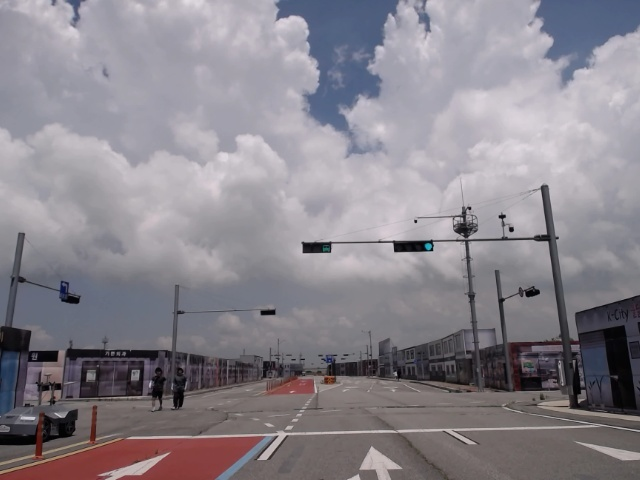straight_green_4: (394, 241, 434, 252)
